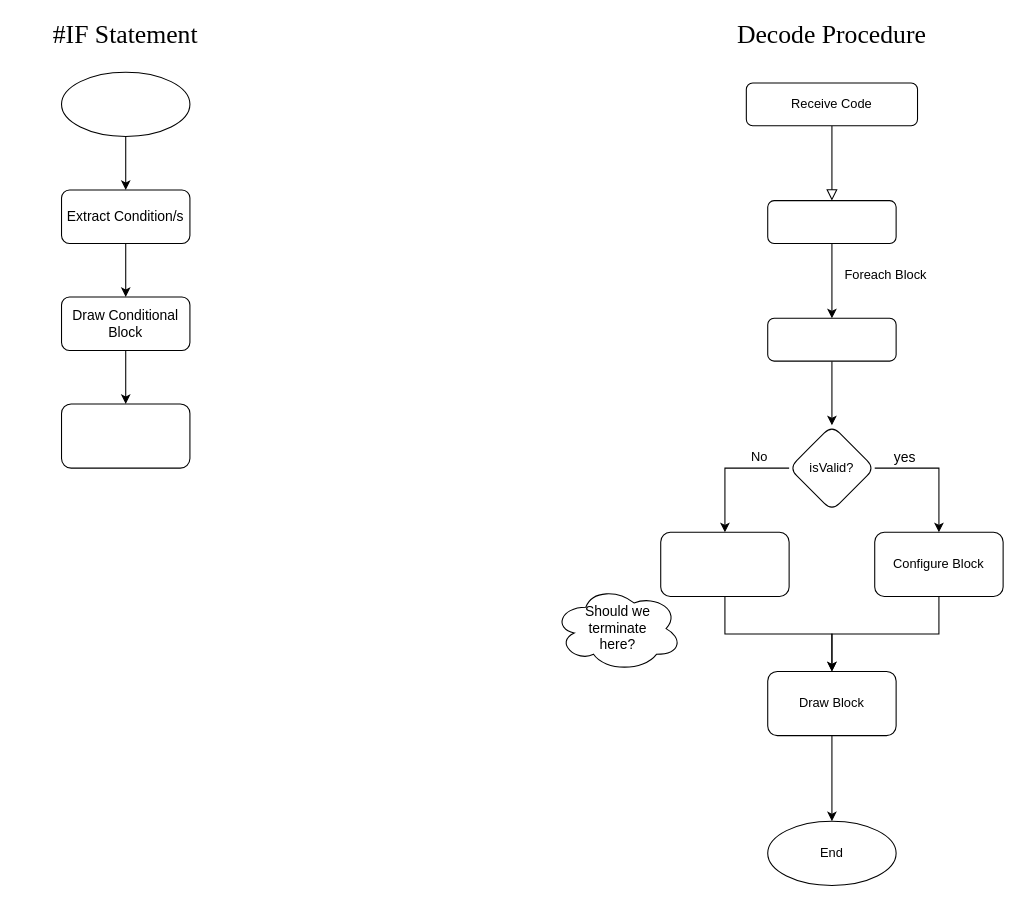
The diagram is 1022 pixels wide and 904 high, and some of its shapes have lost their labels. Each missing label, with the centre of its shape:
Error Block, with error message: point 724,564
Separate Code Into Logical Blocks: point 831,221
Start: point 125,103
Validate Block: point 831,339
